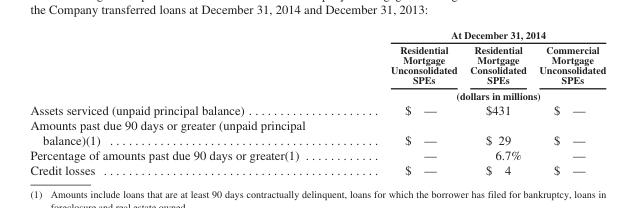table: (29, 28, 605, 177)
table column: (29, 28, 347, 177), (347, 28, 462, 177), (532, 28, 605, 177), (462, 28, 532, 177)
table column header: (29, 28, 605, 101)
table row: (29, 41, 605, 87), (29, 116, 605, 147), (29, 101, 605, 116), (29, 147, 605, 162), (29, 162, 605, 177), (29, 87, 605, 101), (29, 28, 605, 41)
table spanning cell: (347, 87, 605, 101), (347, 28, 605, 41)
